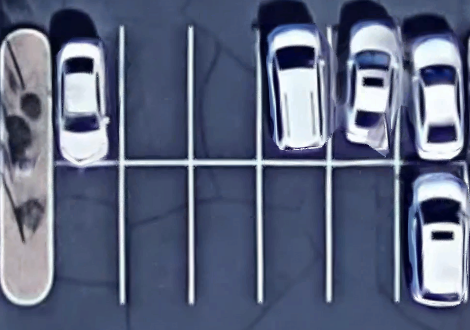Occupied: (50, 26, 121, 163), (397, 162, 466, 302), (258, 29, 329, 163), (396, 29, 466, 163), (329, 29, 398, 163)
Vacant: (121, 162, 192, 305), (50, 163, 122, 304), (258, 162, 329, 303), (191, 162, 260, 303), (328, 163, 396, 302), (121, 27, 190, 163), (190, 28, 259, 162)
